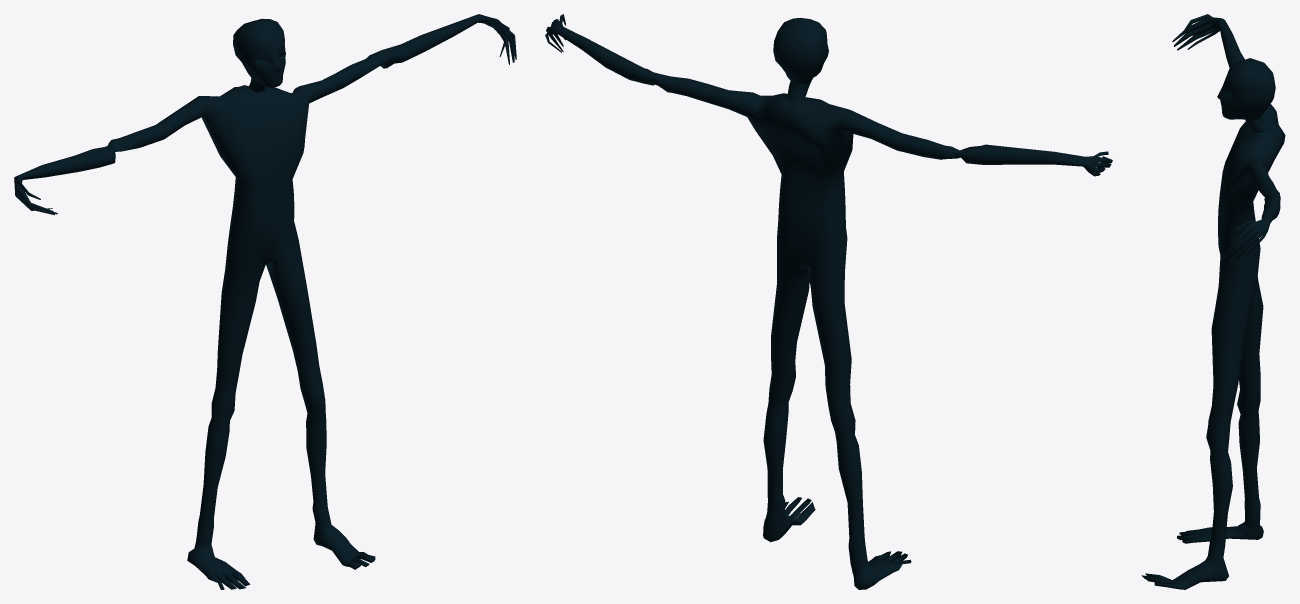
The model's file is Shadow_EnemyTextureDemo.fbx.
3 renders of one model, left to right at view 1: azimuth 30°, elevation 25°; view 2: azimuth 150°, elevation 25°; view 3: azimuth 270°, elevation 25°, orthographic. The views are drawn at different scales.
Parts seen in each view (by area): view 1: body.001; view 2: body.001; view 3: body.001.
Boxes of the visible parts, bbox=[...] form: body.001: bbox=[14, 14, 516, 589]; body.001: bbox=[545, 14, 1112, 589]; body.001: bbox=[1141, 14, 1285, 589].
Size of the model in its own units: 347 by 342 by 88.31.
Materials: 1 (1 with a texture image).
